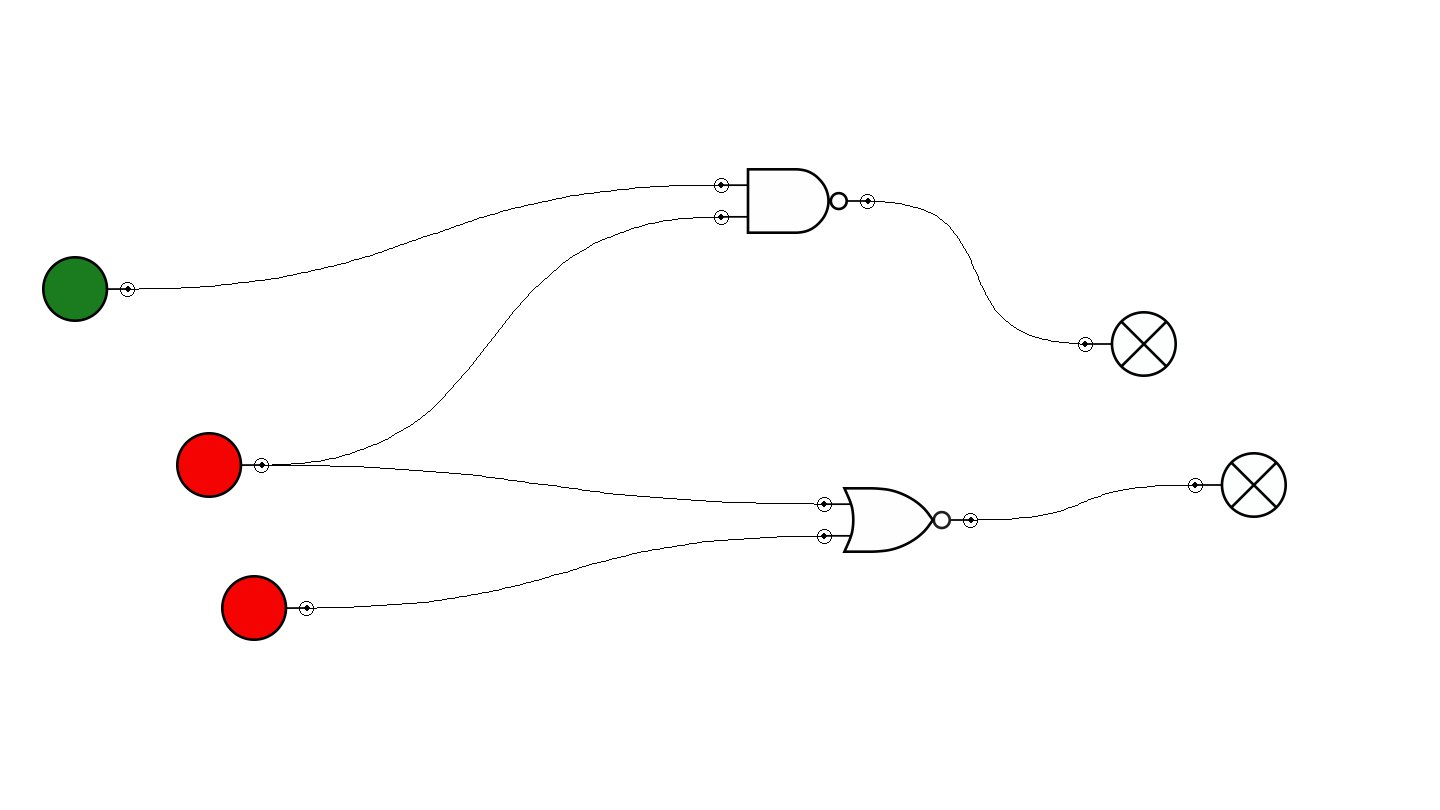bulb: (1078, 311, 1177, 377), (1188, 452, 1287, 518)
nand: (714, 168, 875, 234)
nor: (817, 487, 978, 553)
switch_False: (176, 432, 269, 498), (221, 575, 314, 641)
switch_True: (42, 256, 135, 322)
